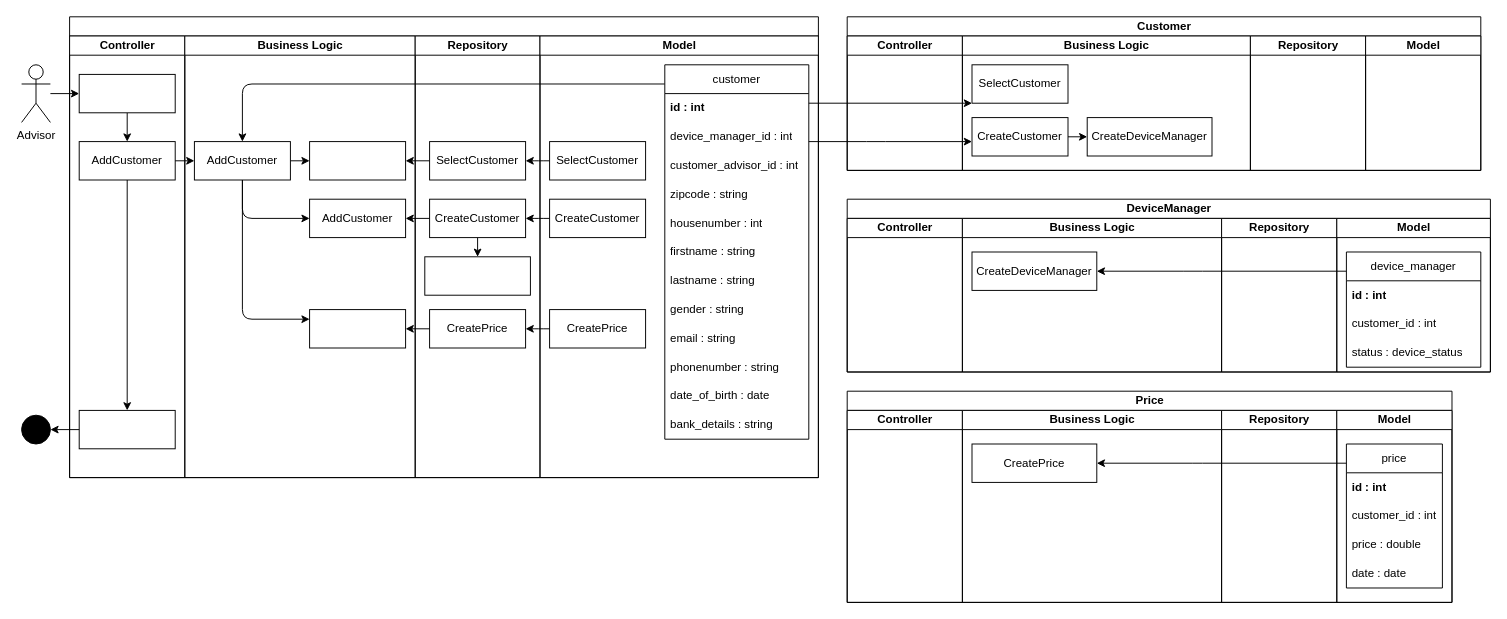
The diagram is 1507 pixels wide and 619 high, and some of its shapes have lost their labels. The centre of each missing label's shape, as x and y in pixels:
"CheckIfExists" belongs at (357,160).
"Initialize" belongs at (126,93).
"SendInitialMessage" belongs at (477,275).
"SetPrice" belongs at (357,328).
"ShowCustomer" belongs at (126,429).
